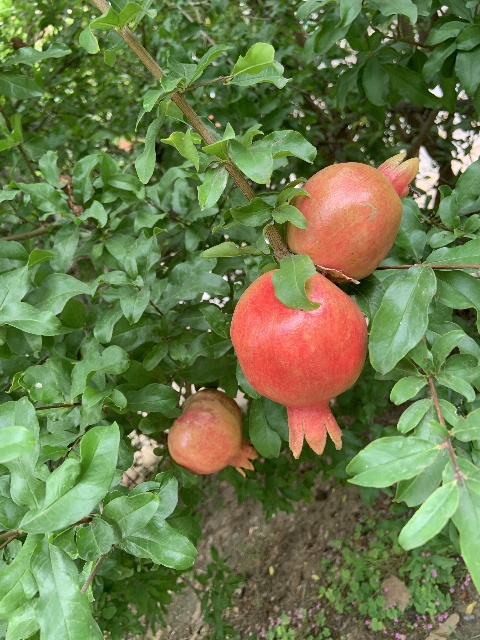ripe: (230, 268, 367, 458), (282, 152, 420, 281), (167, 388, 256, 478)
